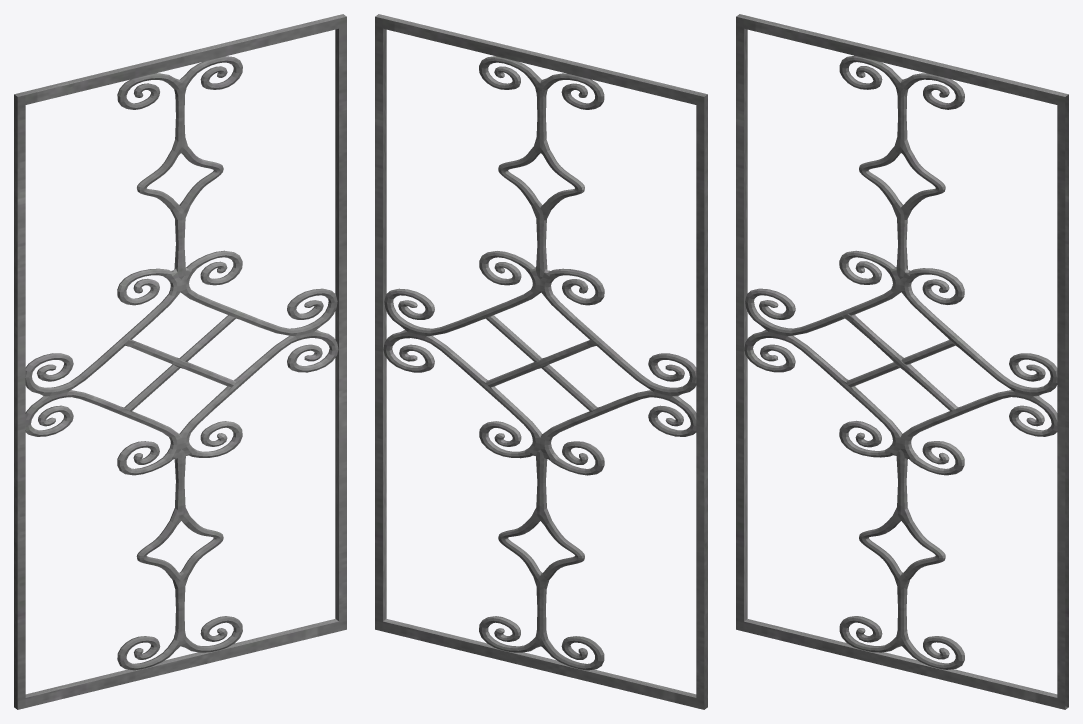
File: single_gate.obj
3 views of the same model, side by side, from view 1: azimuth 30°, elevation 25°; view 2: azimuth 150°, elevation 25°; view 3: azimuth 330°, elevation 25° (orthographic).
Parts seen in each view (by area): view 1: polySurface2; view 2: polySurface2; view 3: polySurface2.
Boxes of the visible parts, x1=… form: polySurface2: x1=14, y1=14, x2=346, y2=709; polySurface2: x1=375, y1=14, x2=707, y2=709; polySurface2: x1=736, y1=14, x2=1068, y2=709.
Bounding box in the file's own units: 5.75 × 10.23 × 0.1128.
Materials: 1 (1 with a texture image).
